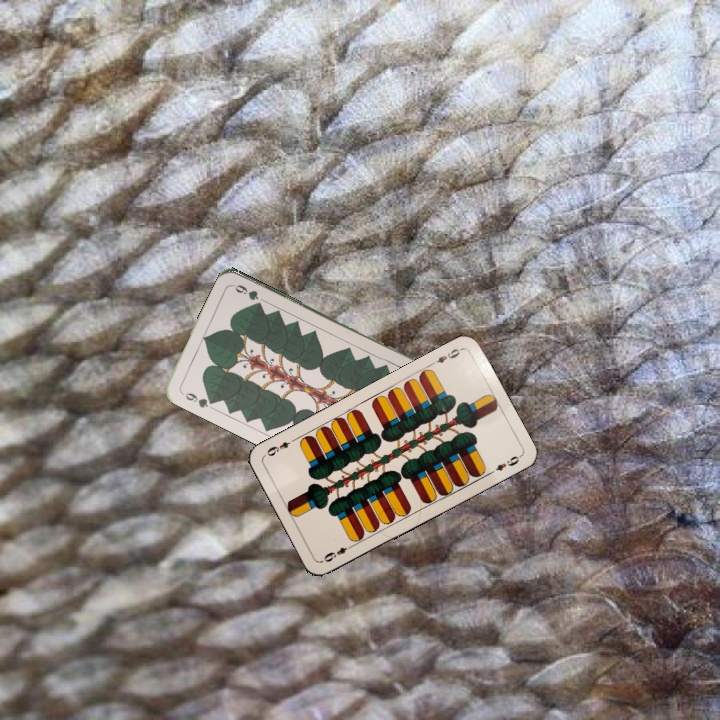E9: (427, 344, 465, 368), (320, 540, 356, 565)
G9: (181, 388, 217, 411)
